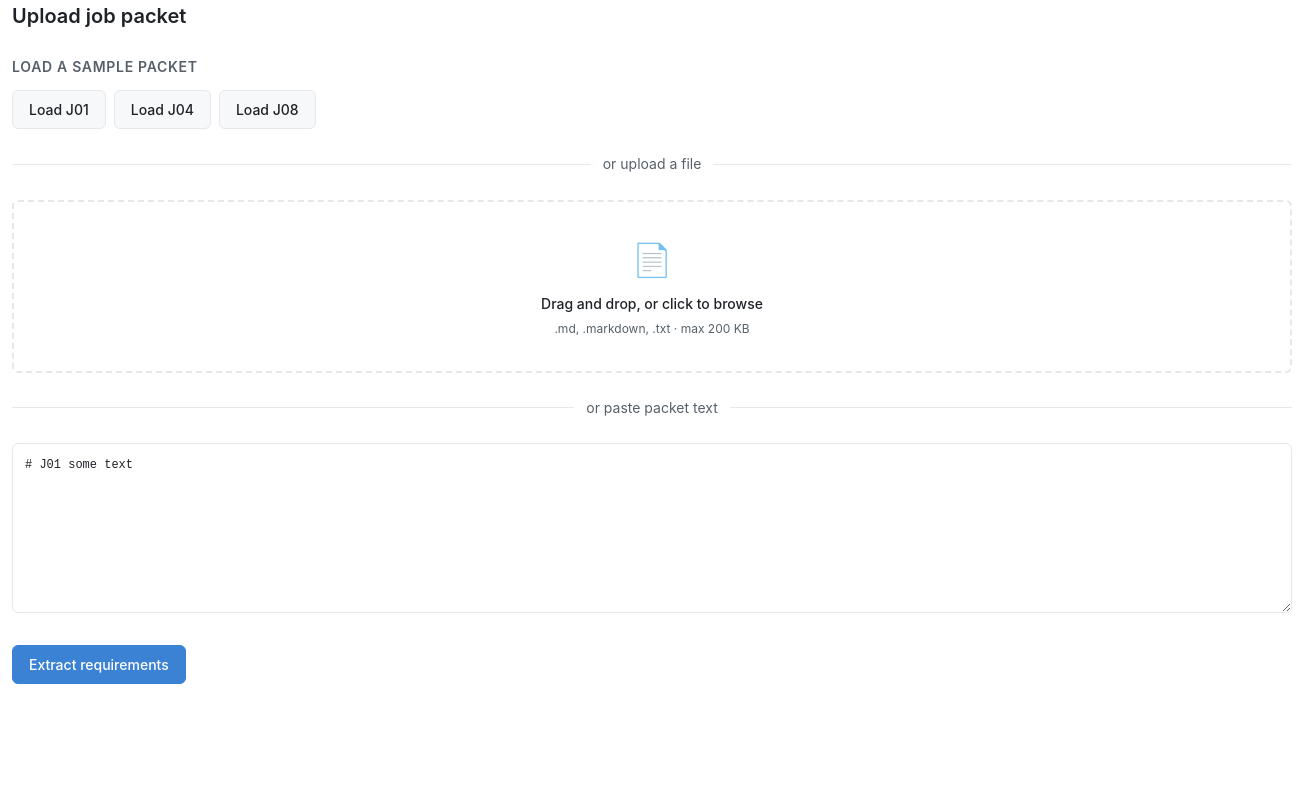
UploadScreen › shows error banner on network failure with retry button
The image size is (1304, 800).
Click the button "Extract requirements". click: point(99, 664)
box: [12,644,186,684]
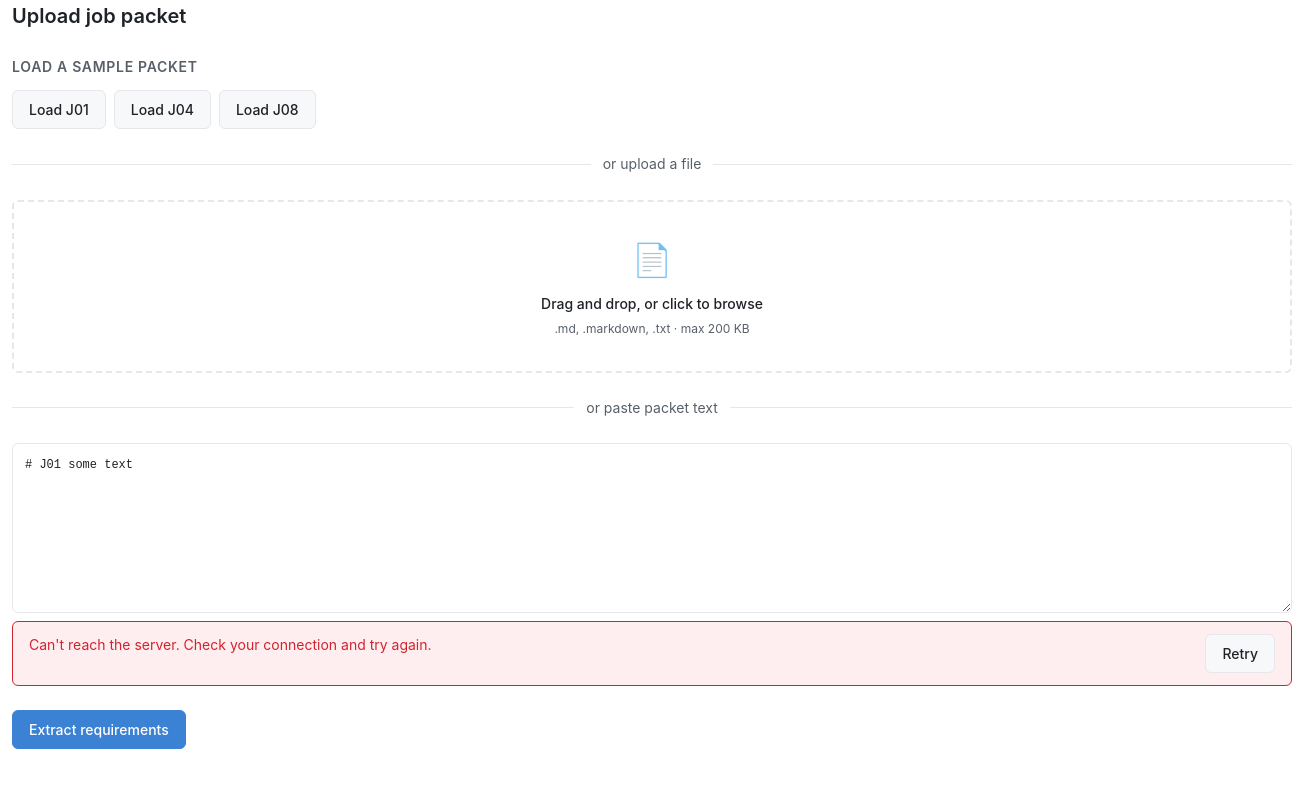
Expected: the message "Can't reach the server. Check your connection and try again. Retry" is shown, [12,620,1292,686]
Expected: the text "Can't reach the server. Check your connection and try again." is shown, [29,636,432,652]
Expected: the button "Retry" is shown, [1205,634,1275,672]
